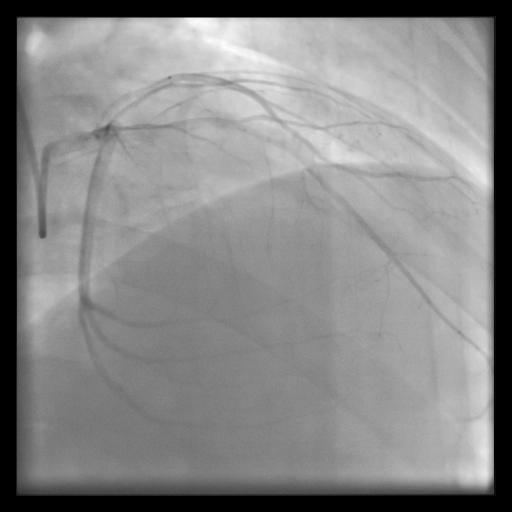Stenosis: (97, 95, 137, 120)
